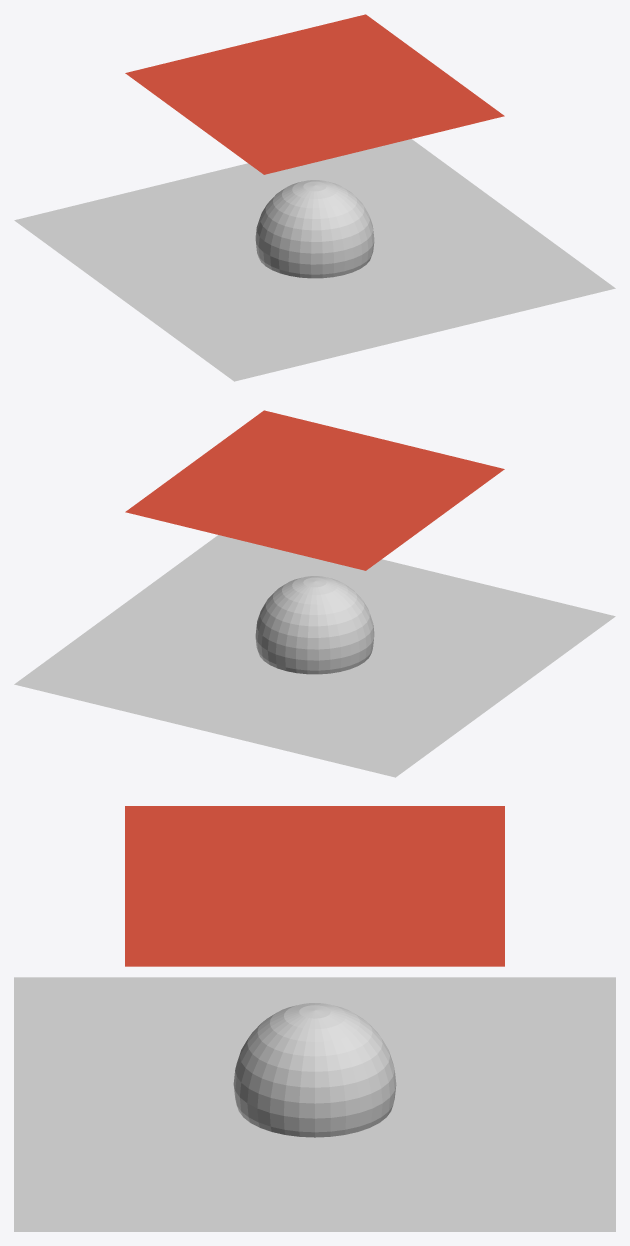
The model's file is Rag.gltf.
3 renders of one model, top to bottom at view 1: azimuth 30°, elevation 25°; view 2: azimuth 150°, elevation 25°; view 3: azimuth 270°, elevation 25°, orthographic. The views are drawn at different scales.
Parts seen in each view (by area): view 1: Plane.001, Plane, Sphere; view 2: Plane.001, Plane, Sphere; view 3: Plane.001, Plane, Sphere.
Boxes of the visible parts, <box> form: Plane.001: <box>14,139,615,381</box>; Plane: <box>125,14,504,174</box>; Sphere: <box>255,180,374,278</box>; Plane.001: <box>14,535,615,777</box>; Plane: <box>125,410,504,570</box>; Sphere: <box>255,576,374,674</box>; Plane.001: <box>14,977,615,1231</box>; Plane: <box>125,806,504,966</box>; Sphere: <box>233,1003,396,1137</box>.
Size of the model in its own units: 7.58 by 3.77 by 7.58.
